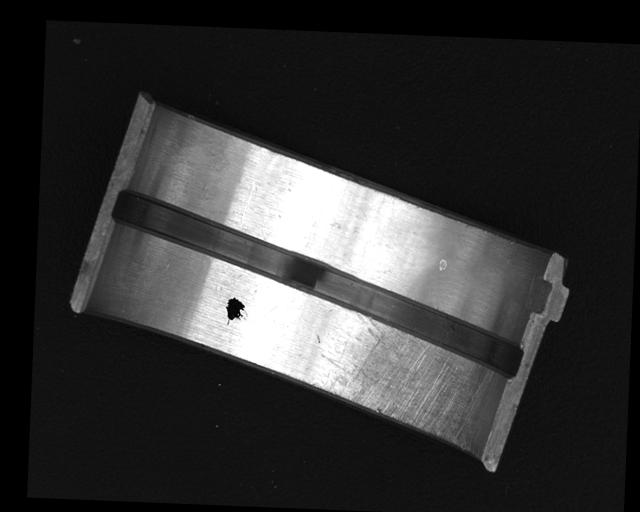blot: (223, 296, 248, 326)
bruise: (437, 258, 447, 273)
gap: (103, 189, 526, 377)
nick: (239, 180, 255, 231)
scratch: (313, 308, 478, 444)
